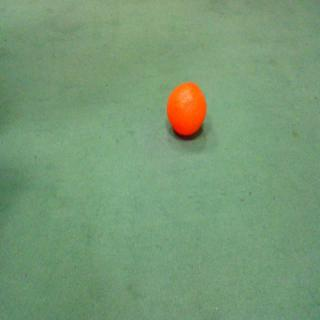orange: (161, 79, 207, 143)
